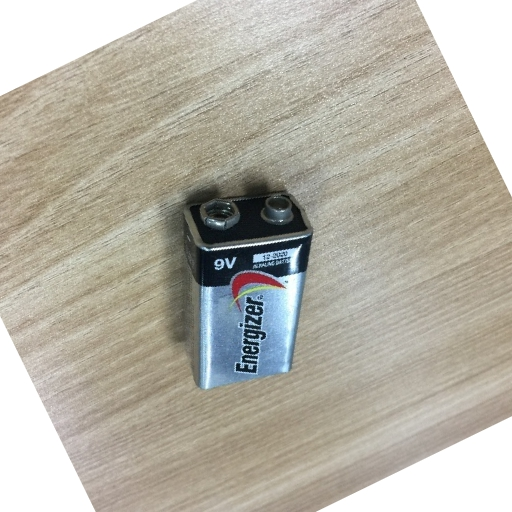Battery_3: (176, 183, 318, 400)
